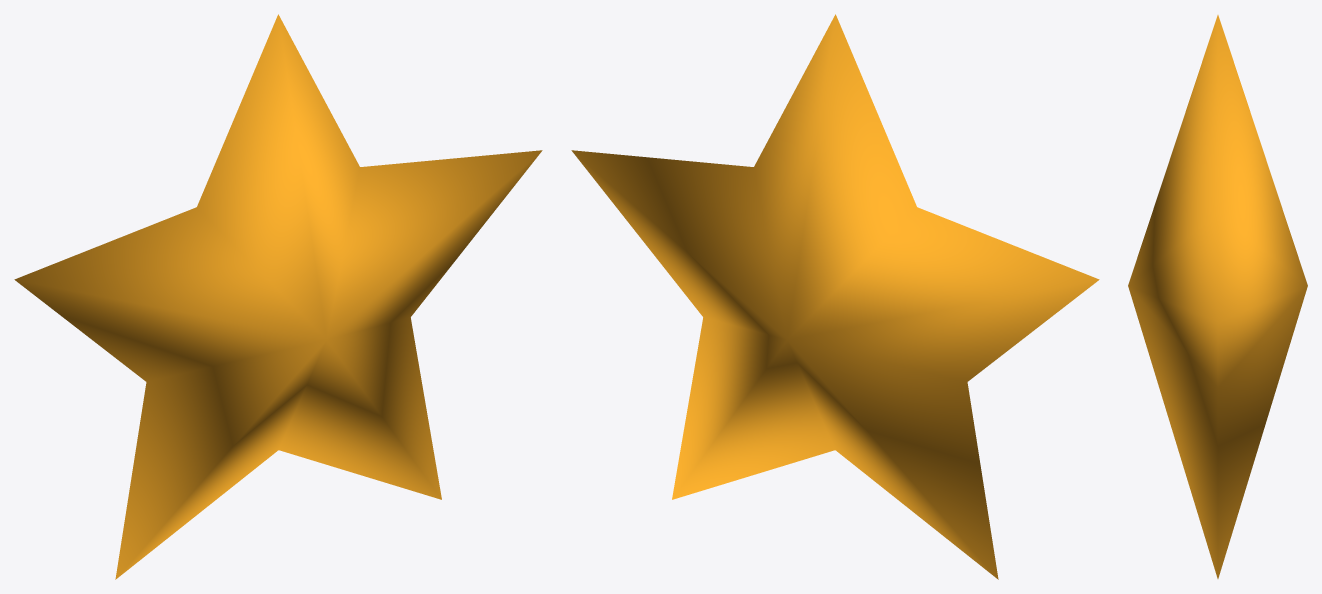
The model's file is 01-STAR-05.fbx.
3 renders of one model, left to right at view 1: azimuth 30°, elevation 25°; view 2: azimuth 150°, elevation 25°; view 3: azimuth 270°, elevation 25°, orthographic. The views are drawn at different scales.
Visible parts, largest first — view 1: 01-STAR-05; view 2: 01-STAR-05; view 3: 01-STAR-05.
Boxes of the visible parts, bbox=[...] form: 01-STAR-05: bbox=[14, 14, 542, 579]; 01-STAR-05: bbox=[571, 14, 1099, 579]; 01-STAR-05: bbox=[1128, 15, 1307, 578].
Size of the model in its own units: 380 by 362 by 120.
